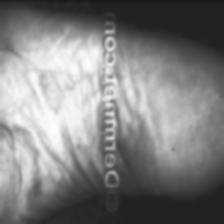Non-Cancerous Skin Condition: (127, 134, 161, 192)
